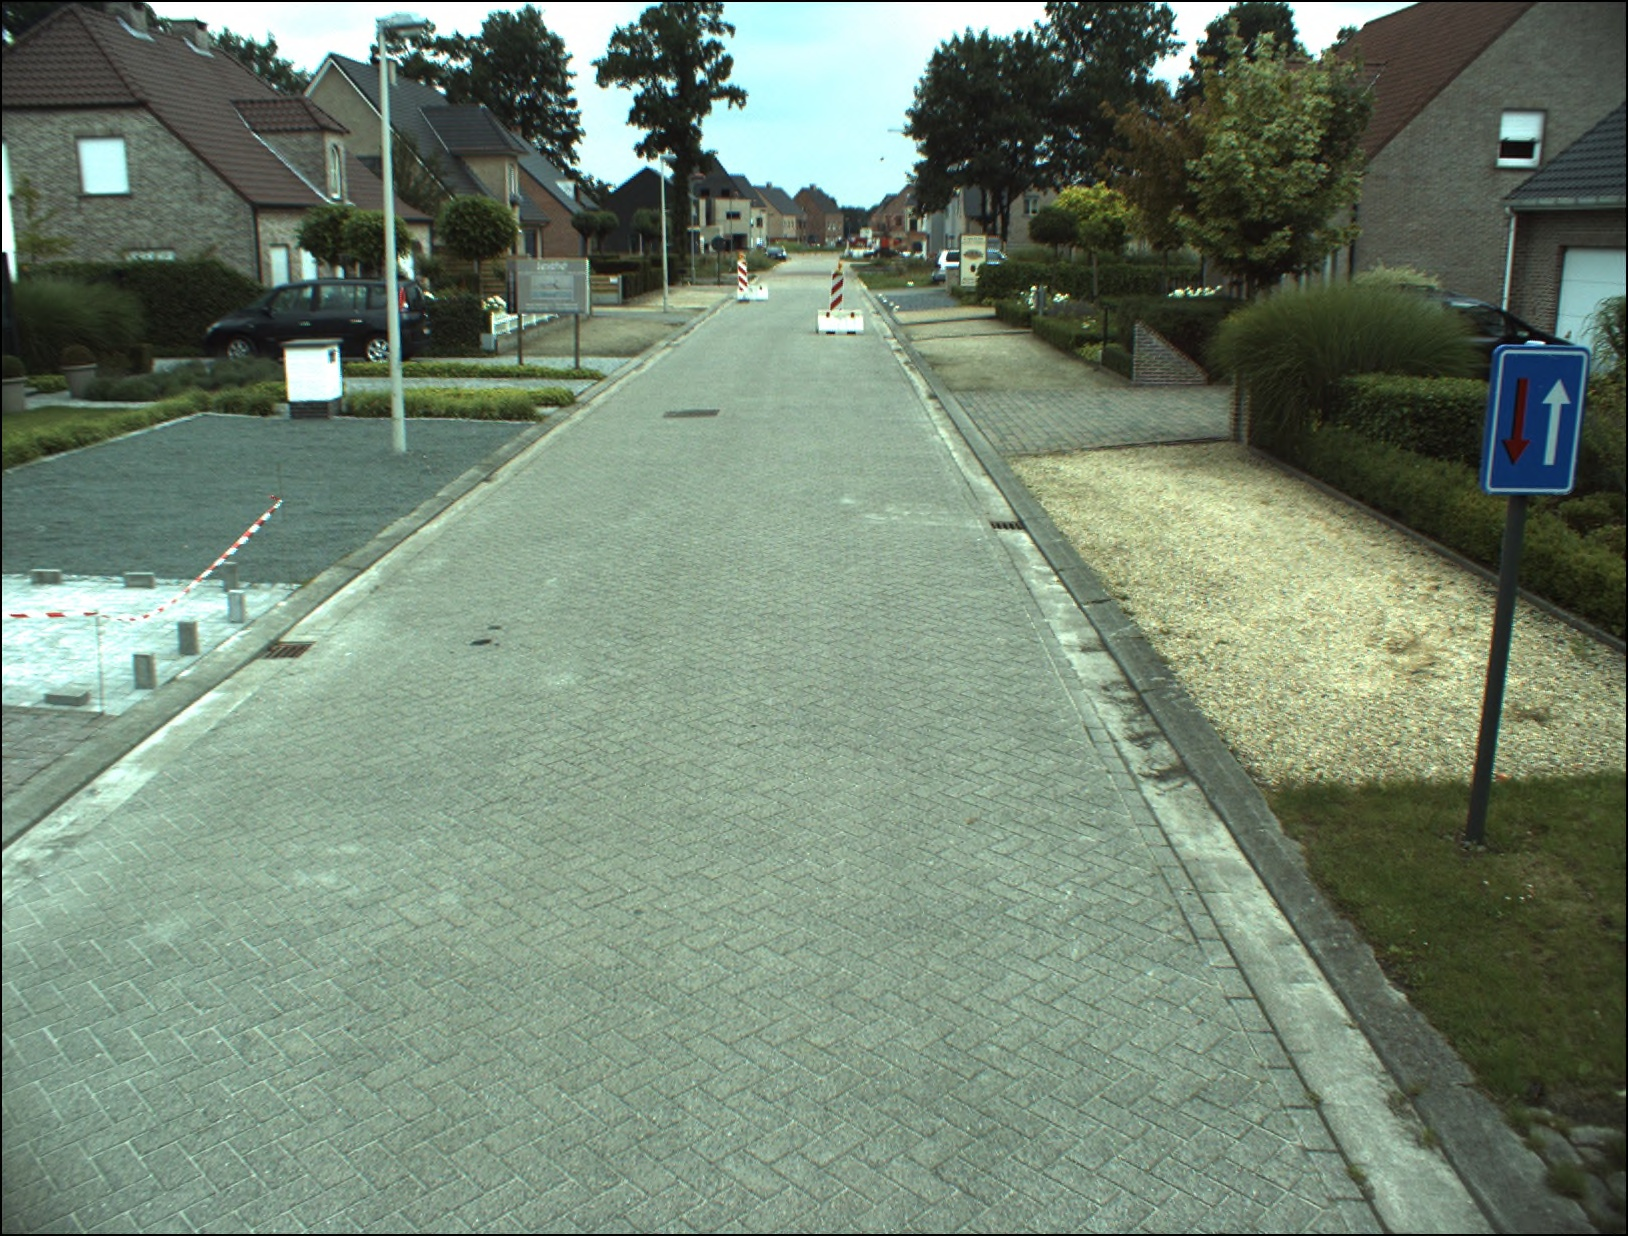roadnarrow1: (1493, 349, 1572, 488)
